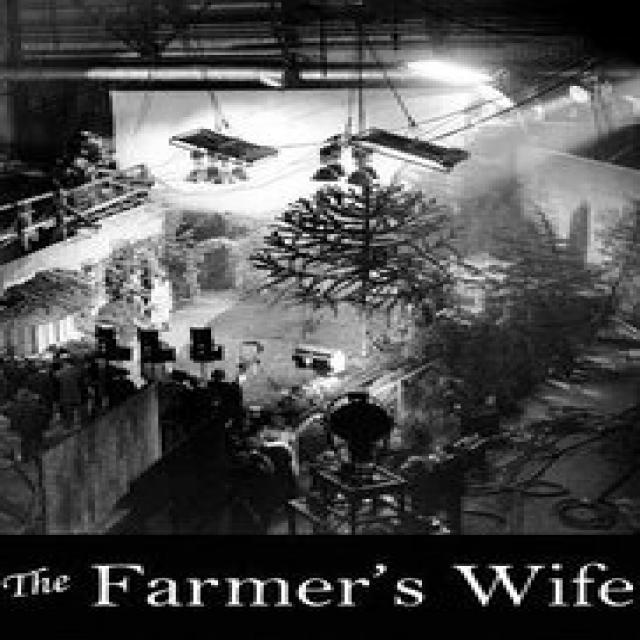movie-judul: (0, 540, 640, 616)
picture: (3, 2, 622, 540)
